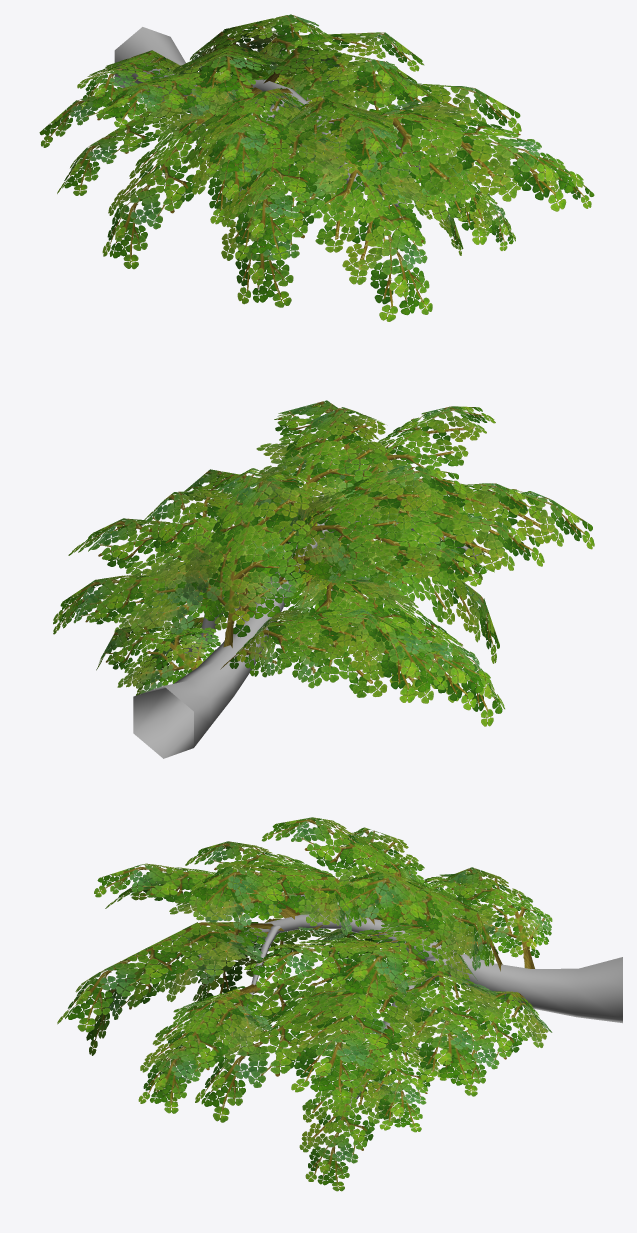
File: FFP Tree_003_2mush.fbx
3 renders of one model, top to bottom at view 1: azimuth 30°, elevation 25°; view 2: azimuth 150°, elevation 25°; view 3: azimuth 270°, elevation 25°, orthographic. The views are drawn at different scales.
Visible parts, largest first — view 1: polySurface1, ht:polySurface326; view 2: polySurface1, ht:polySurface326; view 3: polySurface1, ht:polySurface326.
Part boxes in pixels (x1,y1,x2,y2): polySurface1: (39,14,594,321); ht:polySurface326: (114,27,420,209); polySurface1: (53,400,594,726); ht:polySurface326: (133,500,480,758); polySurface1: (57,817,552,1191); ht:polySurface326: (195,894,622,1119).
Size of the model in its own units: 27.04 by 15.88 by 31.05.
